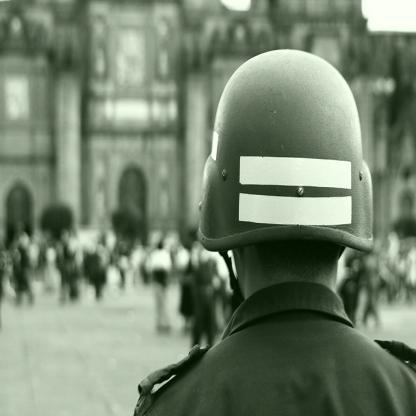Helmet: (198, 50, 375, 305)
